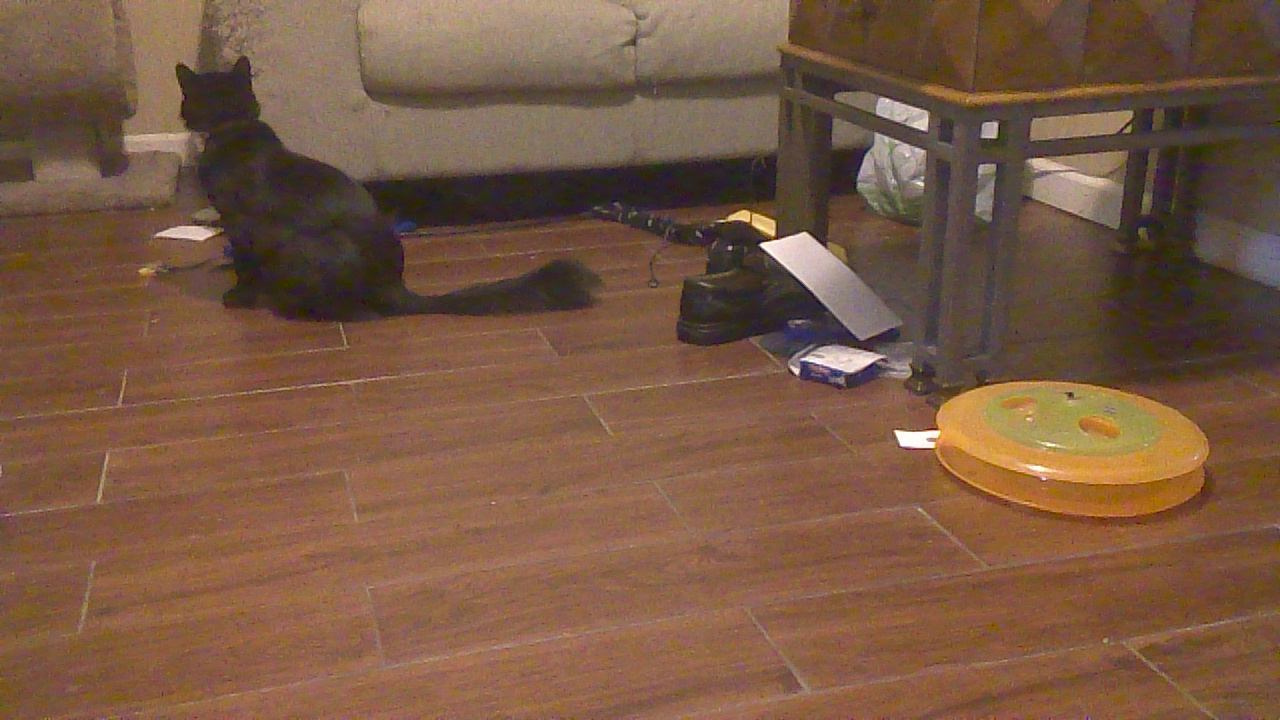cat: (164, 51, 605, 325)
